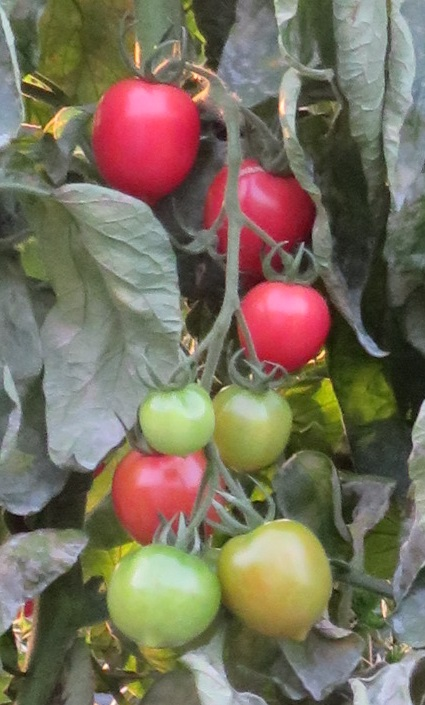green: (222, 516, 337, 645), (107, 545, 231, 650), (210, 379, 293, 473), (133, 387, 219, 453)
red: (88, 78, 200, 205), (207, 158, 314, 269), (109, 449, 225, 540), (232, 281, 336, 369)
